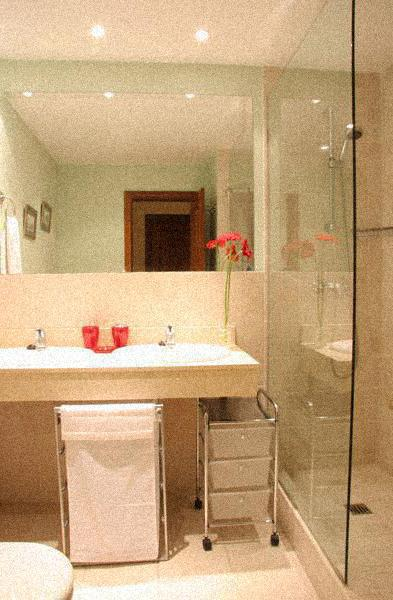Ducha: (264, 65, 388, 599)
Lavamanos: (103, 318, 228, 368), (0, 319, 97, 371)
